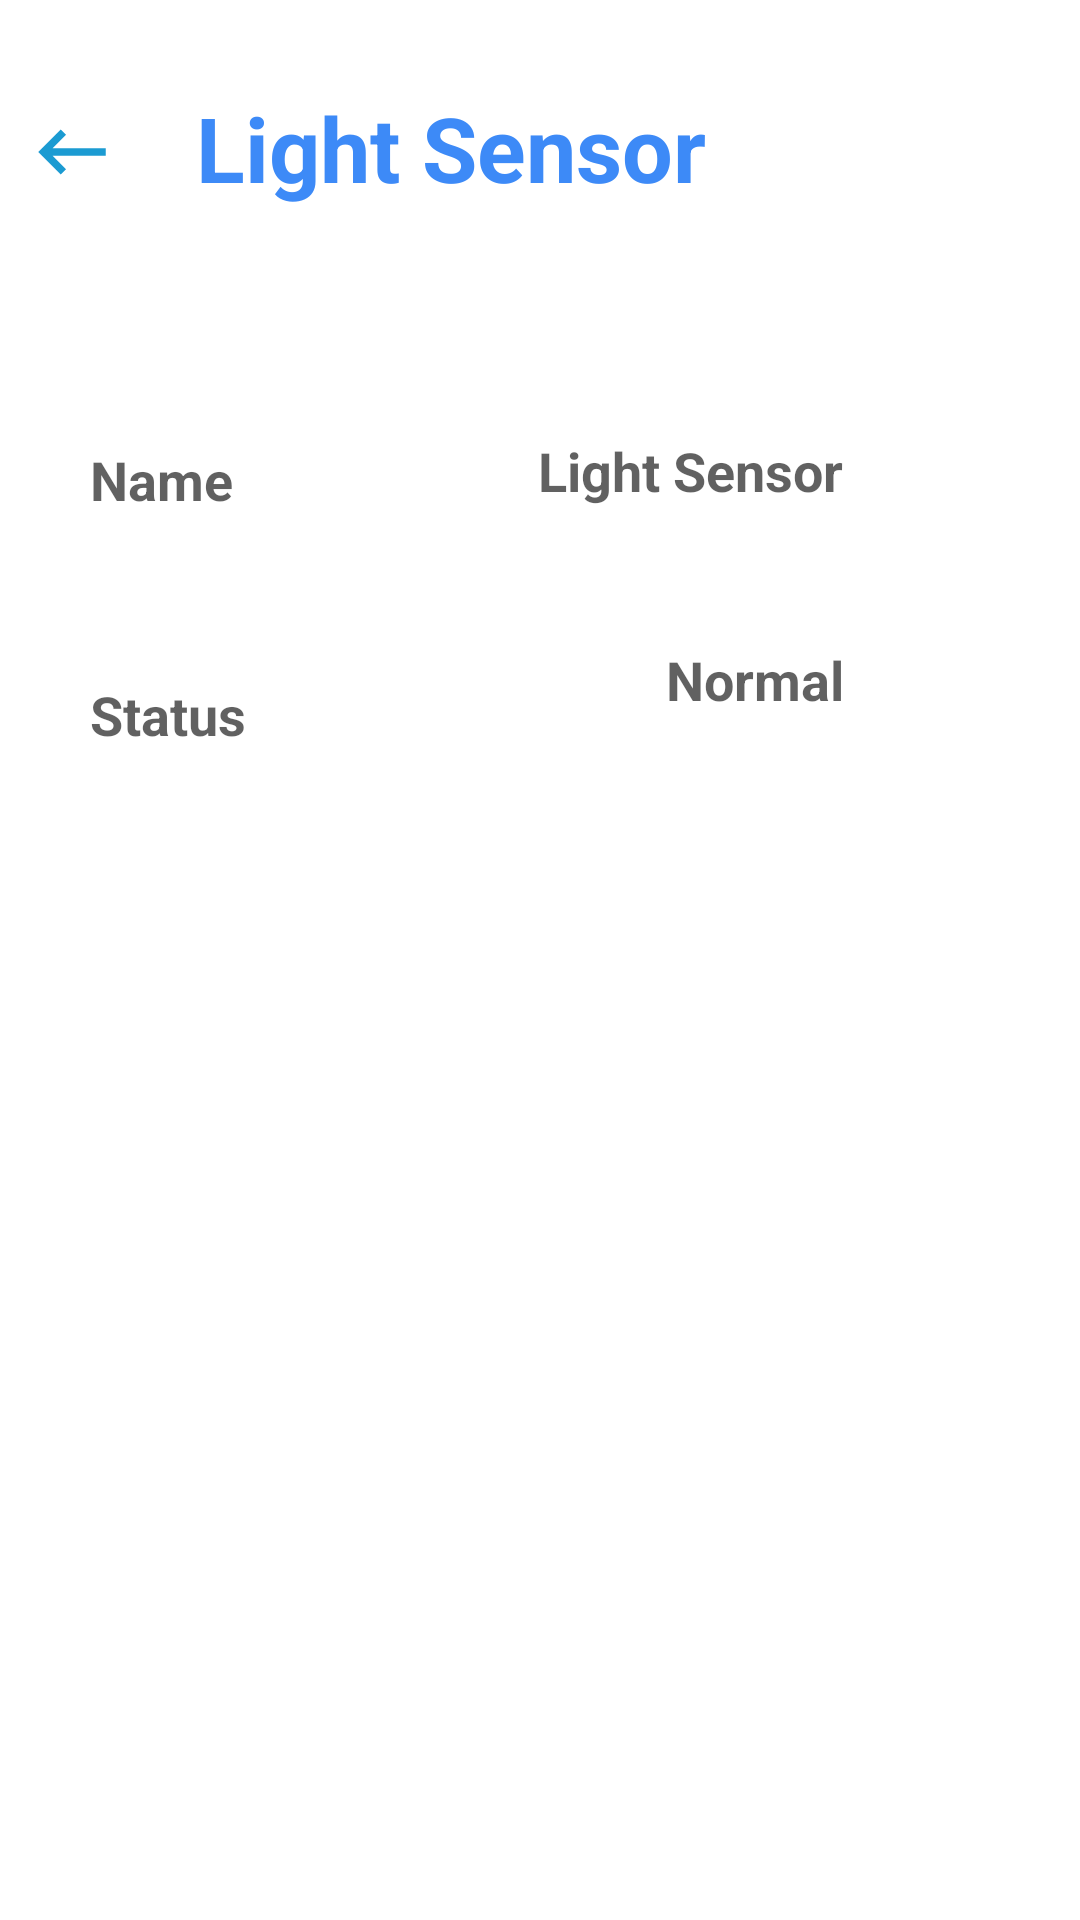

Icons on this 1080w x 1920h Android screen, each with the point to tap as [x,y]:
keyboard backspace: [72,152]
